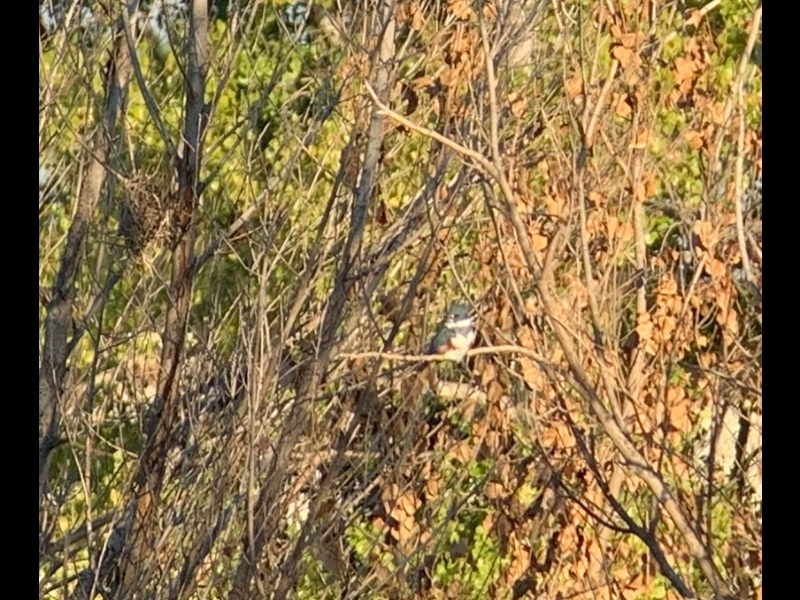kingfisher: (421, 301, 479, 372)
